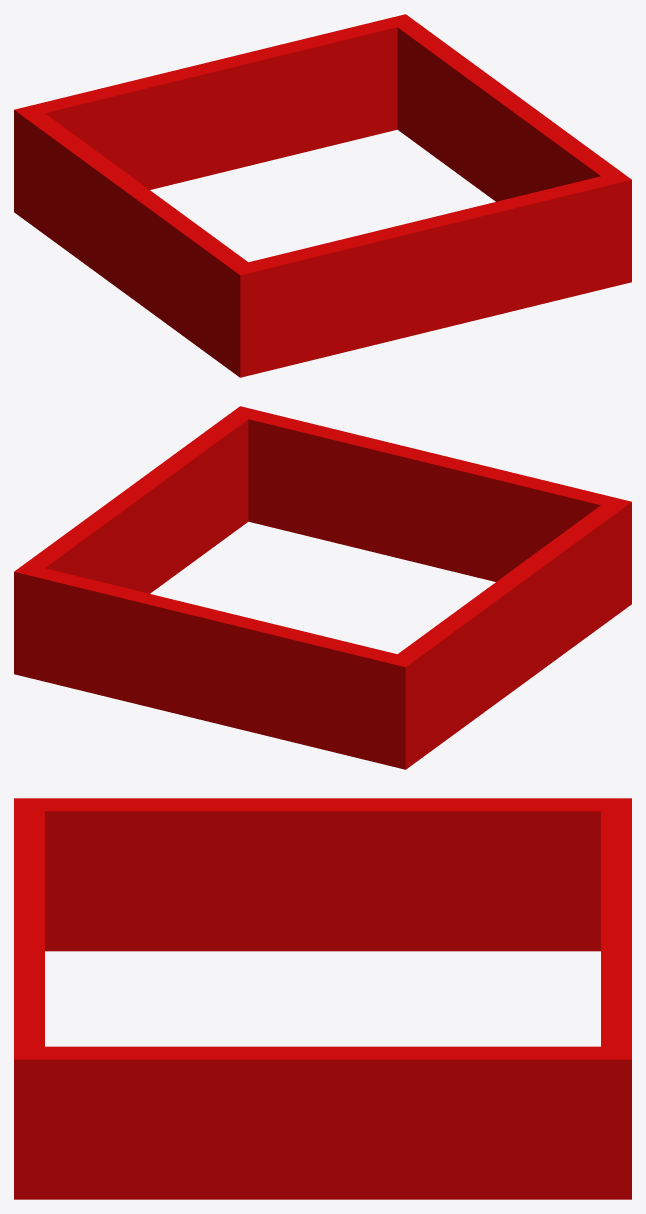
Rendered from RedFrame.fbx.
The picture shows the model from 3 angles, top to bottom: view 1: azimuth 30°, elevation 25°; view 2: azimuth 150°, elevation 25°; view 3: azimuth 270°, elevation 25°; orthographic projection. The views are drawn at different scales.
Parts seen in each view (by area): view 1: polySurface1; view 2: polySurface1; view 3: polySurface1.
Boxes of the visible parts, x1,y1,x2,y2 form: polySurface1: (14,14,631,377); polySurface1: (14,406,631,769); polySurface1: (14,798,631,1199).
Size of the model in its own units: 1 by 0.25 by 1.
